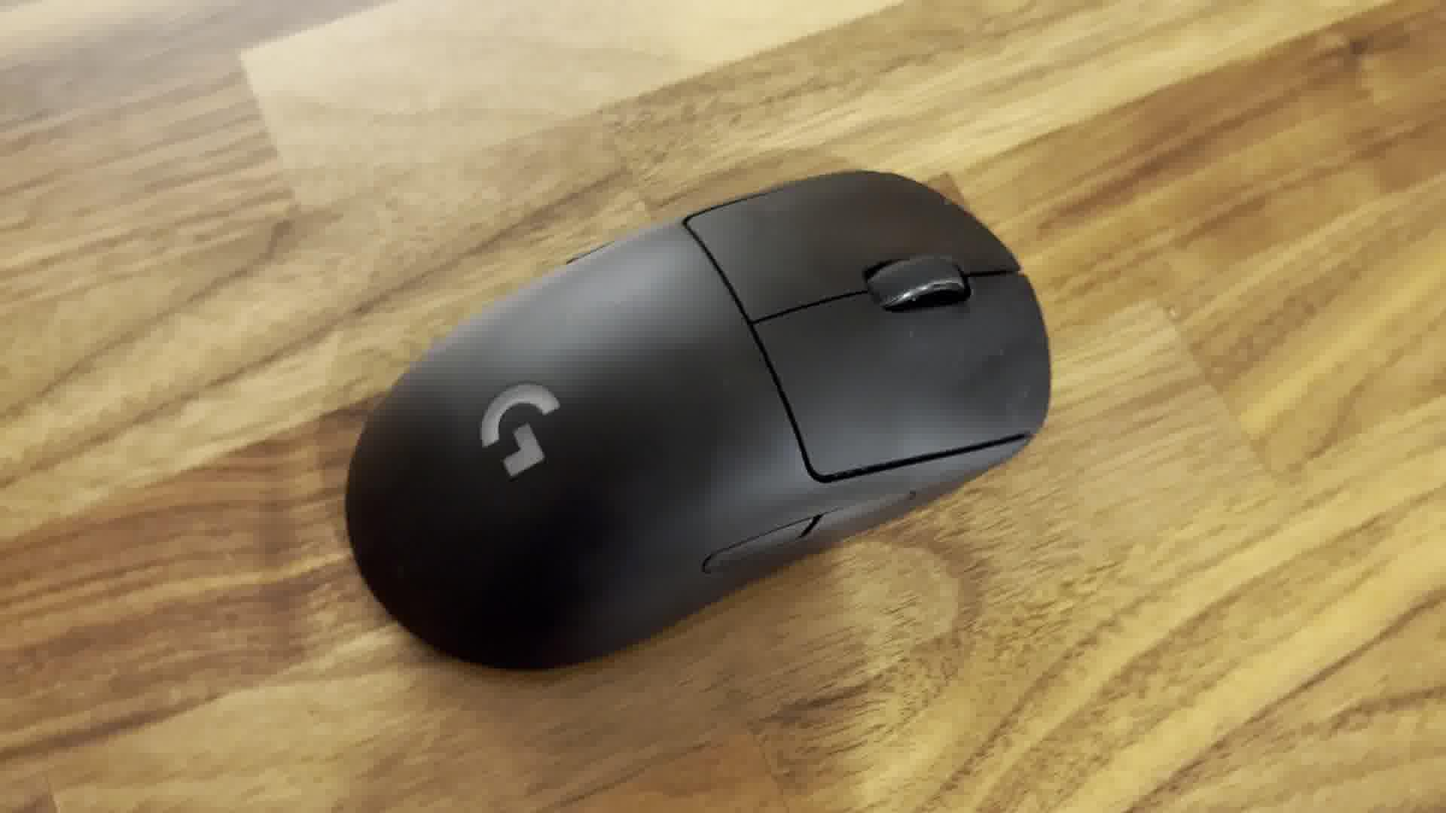logicool: (339, 166, 1056, 670)
